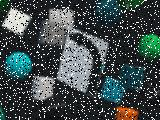Left: (56, 26, 108, 98)
